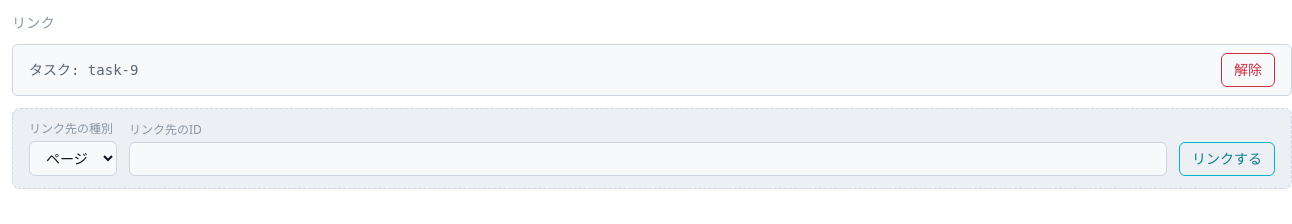
Test case: EntityLinks › 解除ボタンで確認しOKならdeleteLinkを呼び一覧を取得し直す
The width and height of the screenshot is (1292, 224).
Expected: the text "タスク: task-9" is shown, [29,60,138,80]
Click the button "解除": (1248, 70) [1221,53,1275,87]
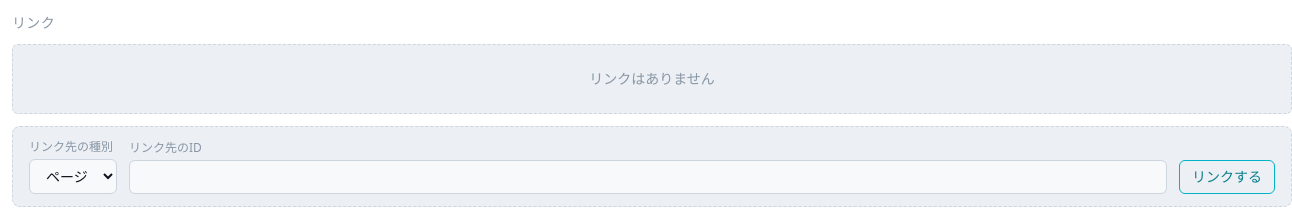
Now the text "リンクはありません" is shown, box [12,44,1291,114]
